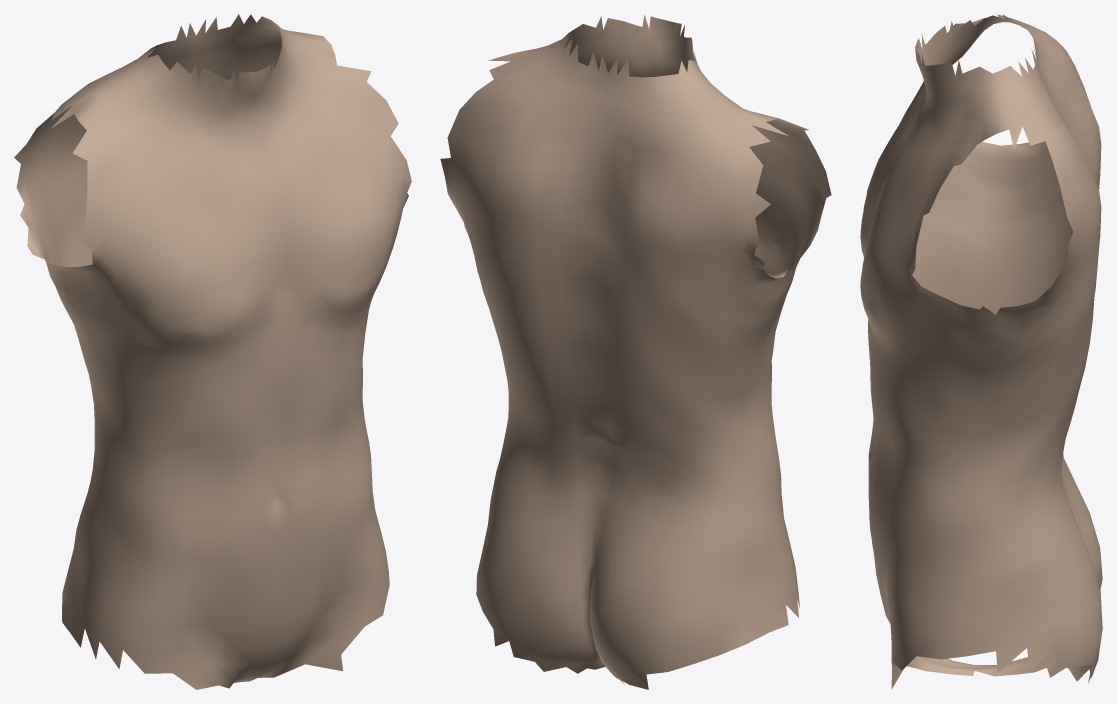
Rendered from torso.glb.
3 views of the same model, side by side, from view 1: azimuth 30°, elevation 25°; view 2: azimuth 150°, elevation 25°; view 3: azimuth 270°, elevation 25° (orthographic).
Visible parts, largest first — view 1: base_humanMesh_base_human_0; view 2: base_humanMesh_base_human_0; view 3: base_humanMesh_base_human_0.
Part boxes in pixels (<box>): base_humanMesh_base_human_0: <box>14,14,411,689</box>; base_humanMesh_base_human_0: <box>440,14,831,689</box>; base_humanMesh_base_human_0: <box>860,14,1102,689</box>.
Bounding box in the file's own units: 0.426 × 0.7572 × 0.2623.
